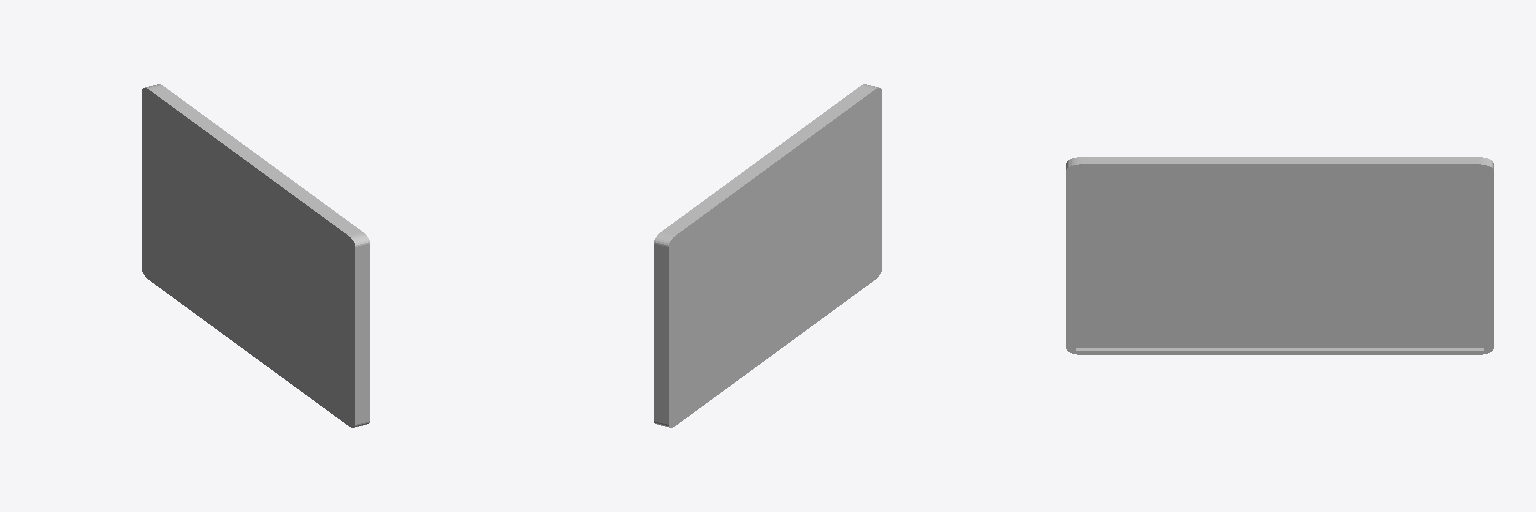
The model's file is Eboard.obj.
3 renders of one model, left to right at view 1: azimuth 30°, elevation 25°; view 2: azimuth 150°, elevation 25°; view 3: azimuth 270°, elevation 25°, orthographic.
Visible parts, largest first — view 1: objMesh; view 2: objMesh; view 3: objMesh.
Part boxes in pixels (left/top/right/bottom): objMesh: left=142, top=84, right=369, bottom=427; objMesh: left=654, top=84, right=881, bottom=427; objMesh: left=1066, top=157, right=1493, bottom=354.
Size of the model in its own units: 0.2731 by 3.39 by 6.89.